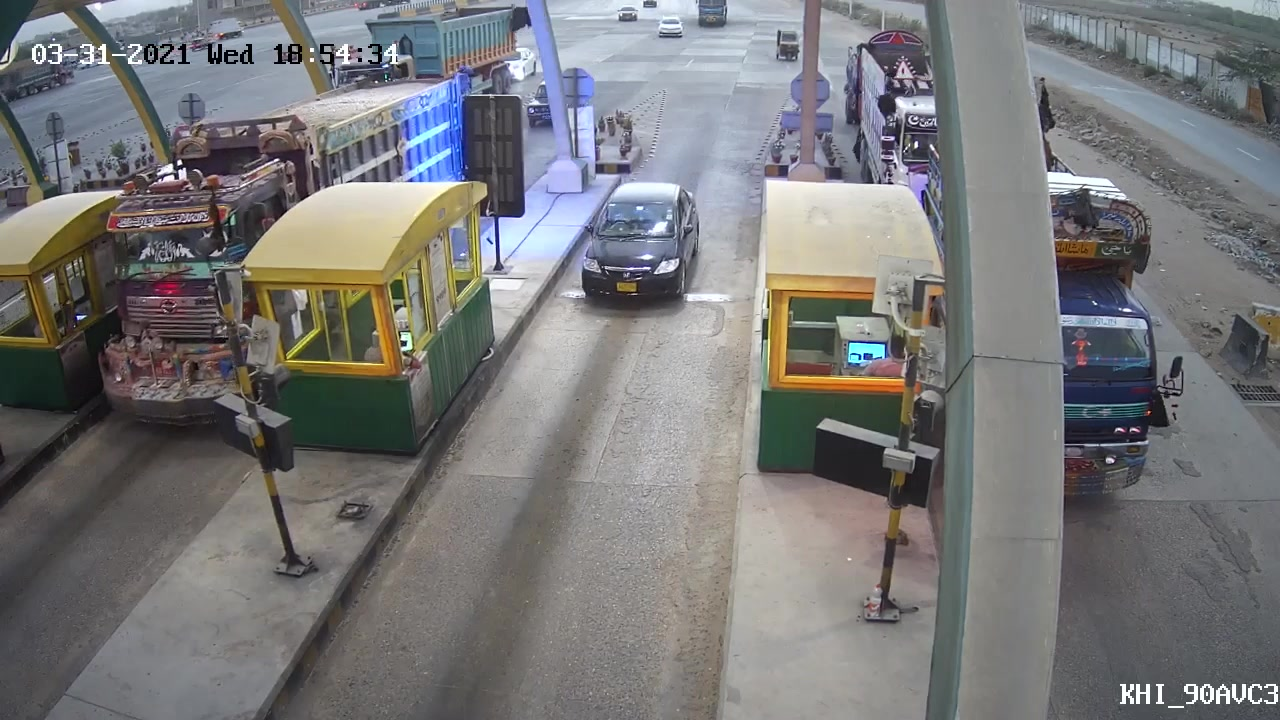F1: (573, 176, 709, 306)
